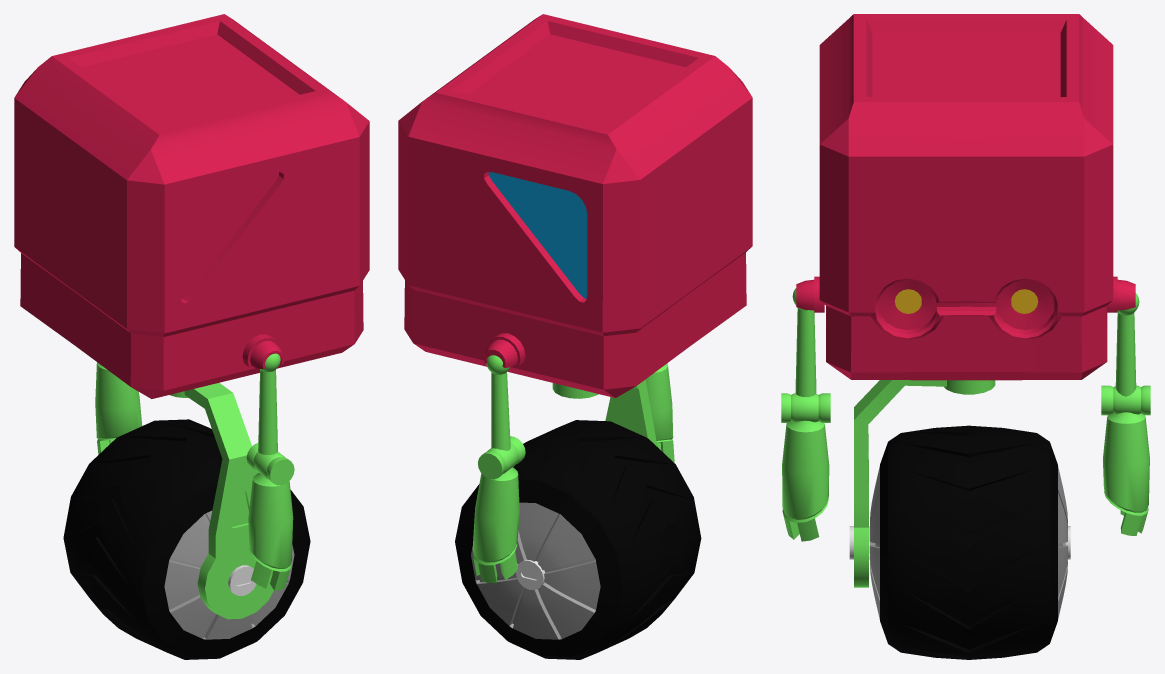
File: Player.fbx
3 views of the same model, side by side, from view 1: azimuth 30°, elevation 25°; view 2: azimuth 150°, elevation 25°; view 3: azimuth 270°, elevation 25° (orthographic). The views are drawn at different scales.
Parts seen in each view (by area): view 1: Head, Tyre, Link, Wheel, LHL, LHR, UHL, MLL, CAP; view 2: Head, Tyre, Wheel, LHR, Link, LHL, UHR, MLR, CAP; view 3: Head, Tyre, LHL, LHR, Link, Wheel, UHL, UHR, MLL, MLR, EYES.
Boxes of the visible parts, box(x1,y1,x2,y2) form: Head: box(14, 14, 369, 398); Tyre: box(63, 419, 310, 659); Link: box(170, 382, 273, 619); Wheel: box(164, 510, 294, 639); LHL: box(248, 473, 293, 590); LHR: box(95, 362, 142, 454); UHL: box(258, 353, 280, 454); MLL: box(246, 443, 294, 485); CAP: box(228, 565, 256, 595); Head: box(398, 14, 752, 397); Tyre: box(455, 420, 701, 659); Wheel: box(471, 502, 600, 639); LHR: box(472, 467, 519, 582); Link: box(552, 379, 657, 446); LHL: box(645, 363, 674, 462); UHR: box(486, 355, 510, 450); MLR: box(478, 436, 525, 479); CAP: box(516, 559, 595, 590); Head: box(796, 14, 1135, 380); Tyre: box(880, 425, 1057, 659); LHL: box(782, 420, 829, 541); LHR: box(1103, 412, 1149, 535); Link: box(854, 380, 995, 587); Wheel: box(869, 466, 1067, 619); UHL: box(792, 288, 816, 396); UHR: box(1115, 293, 1139, 396); MLL: box(781, 393, 830, 422); MLR: box(1101, 385, 1150, 415); EYES: box(894, 289, 1038, 313).
Size of the model in its own units: 654 by 1459 by 823.
